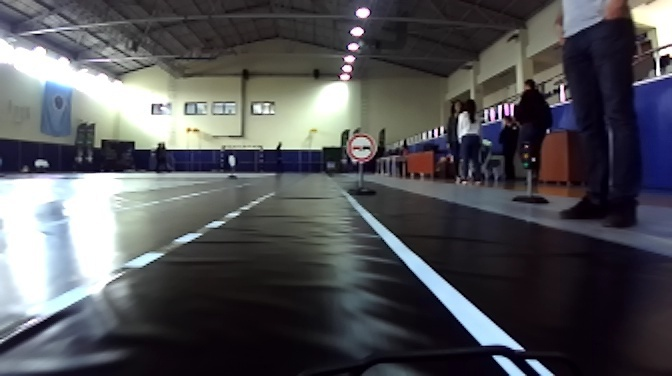sollama_yasak: (346, 135, 375, 162)
